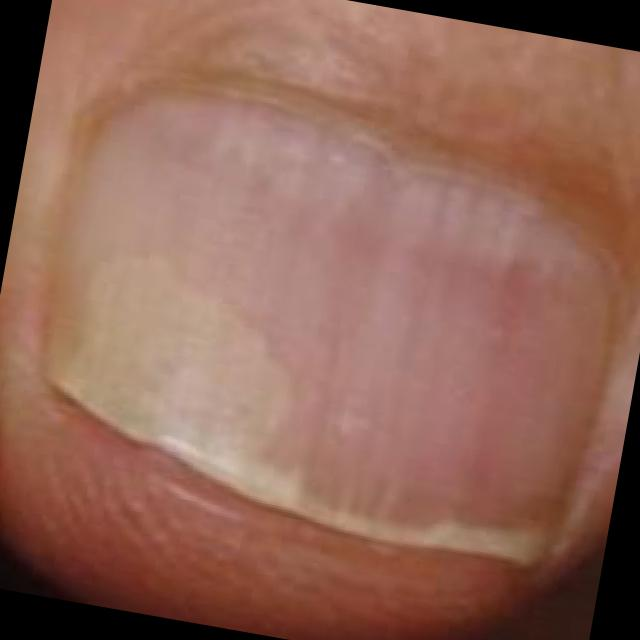Nail: (43, 85, 619, 567)
